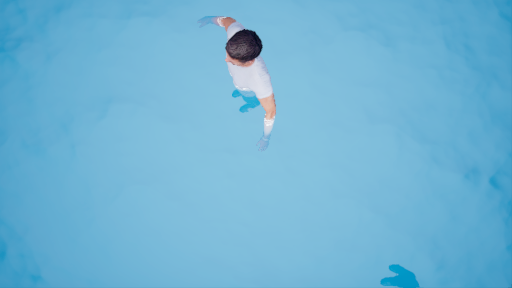person: (195, 17, 291, 154)
